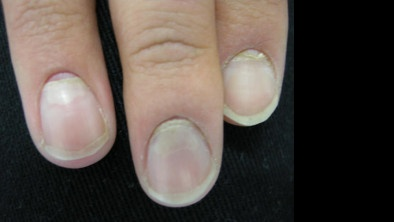SJS-TEN: (139, 105, 211, 173), (220, 38, 283, 93), (34, 69, 93, 115)
